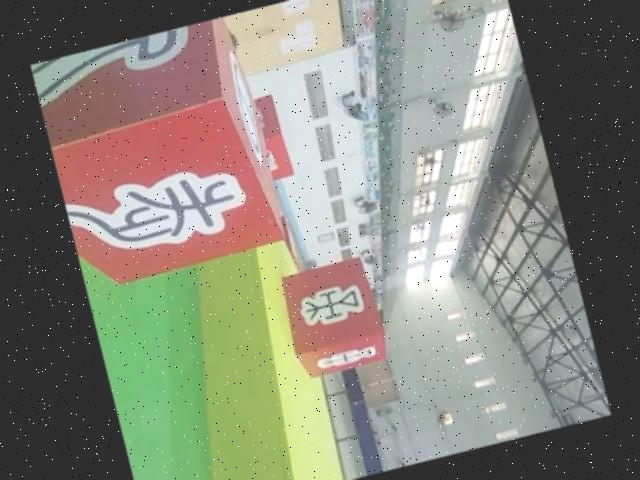R2 Fake: (29, 14, 293, 296)
R2 Real: (271, 252, 393, 386)
